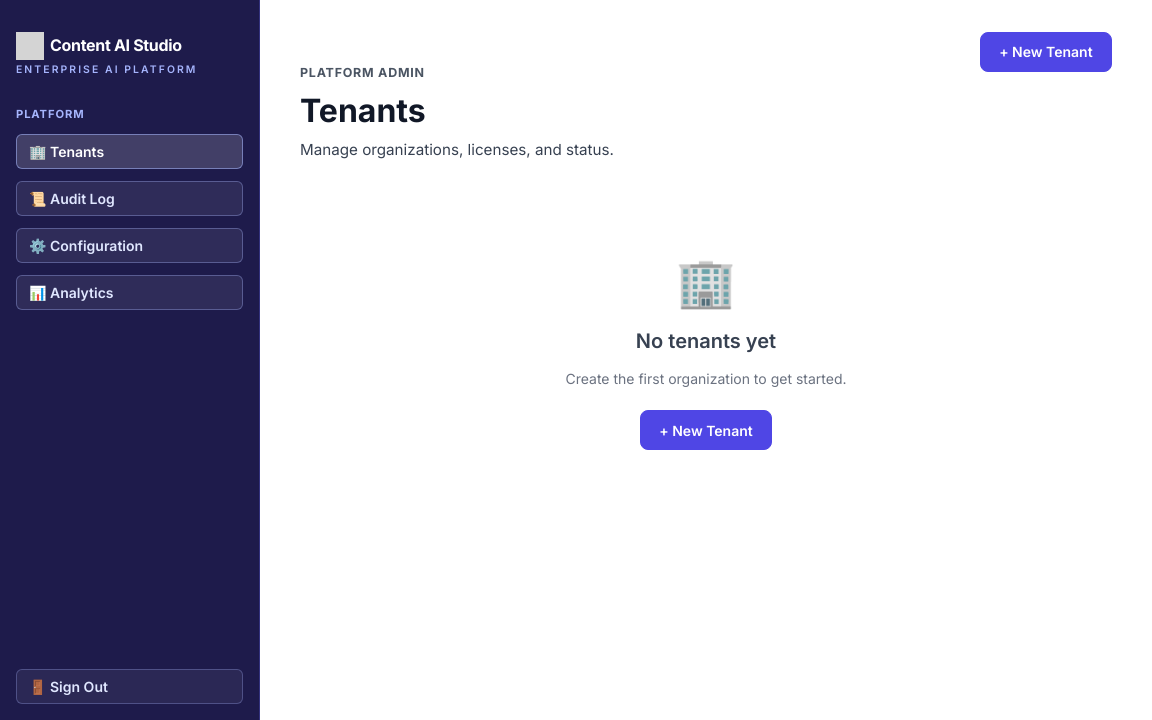
Scenario: TenantsPage — New Tenant template selection › displays the Template selector with Minimal as default
The image size is (1152, 720).
Click the button "+ New Tenant" in the row of "Platform Admin".
click(1046, 52)  # box [980, 32, 1112, 72]
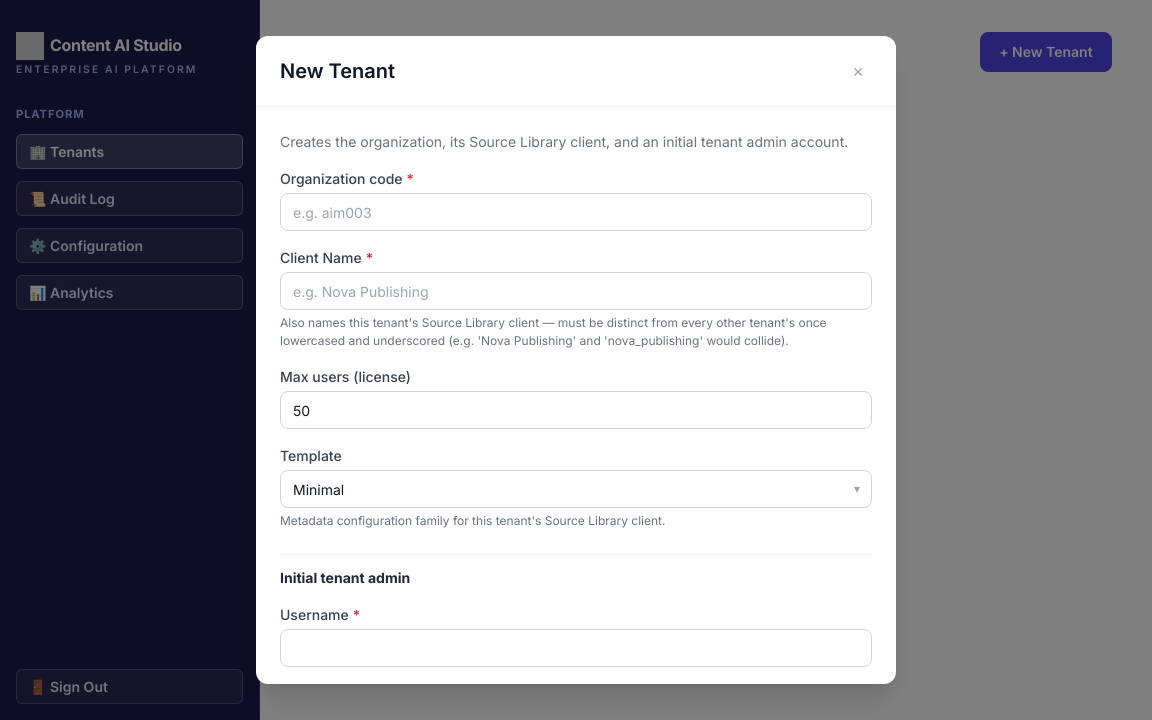
Check: the dropdown labelled "Template" shows "Minimal", box [280, 470, 872, 508]
